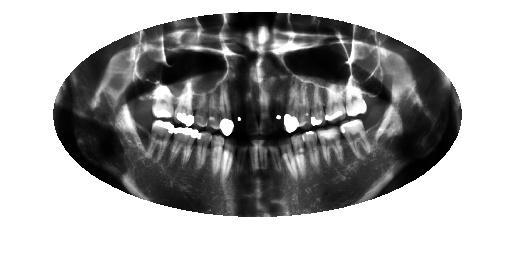i10decay: (234, 129, 252, 182)
i11decay: (218, 127, 238, 184)
i12healthy: (208, 129, 226, 181)
i13healthy: (192, 124, 215, 174)
i14healthy: (166, 118, 201, 177)
i15healthy: (143, 112, 177, 172)
i2healthy: (337, 108, 377, 168)
i3healthy: (316, 122, 344, 172)
i4healthy: (299, 122, 322, 175)
i5healthy: (286, 126, 308, 177)
i6decay: (274, 130, 298, 186)
i7decay: (265, 131, 284, 183)
i8chipped: (255, 131, 269, 183)
i9chipped: (245, 133, 261, 178)
u10loss: (230, 81, 247, 141)
u11healthy: (214, 79, 236, 139)
u12decay: (205, 86, 224, 138)
u13decay: (191, 78, 210, 132)
u14healthy: (172, 74, 195, 132)
u15healthy: (142, 68, 177, 129)
u2healthy: (339, 72, 369, 124)
u3healthy: (320, 79, 347, 126)
u4healthy: (308, 79, 327, 131)
u5healthy: (291, 77, 315, 131)
u6healthy: (281, 82, 302, 137)
u7loss: (267, 79, 288, 135)
u8healthy: (253, 78, 275, 138)
u9decay: (242, 79, 261, 138)
